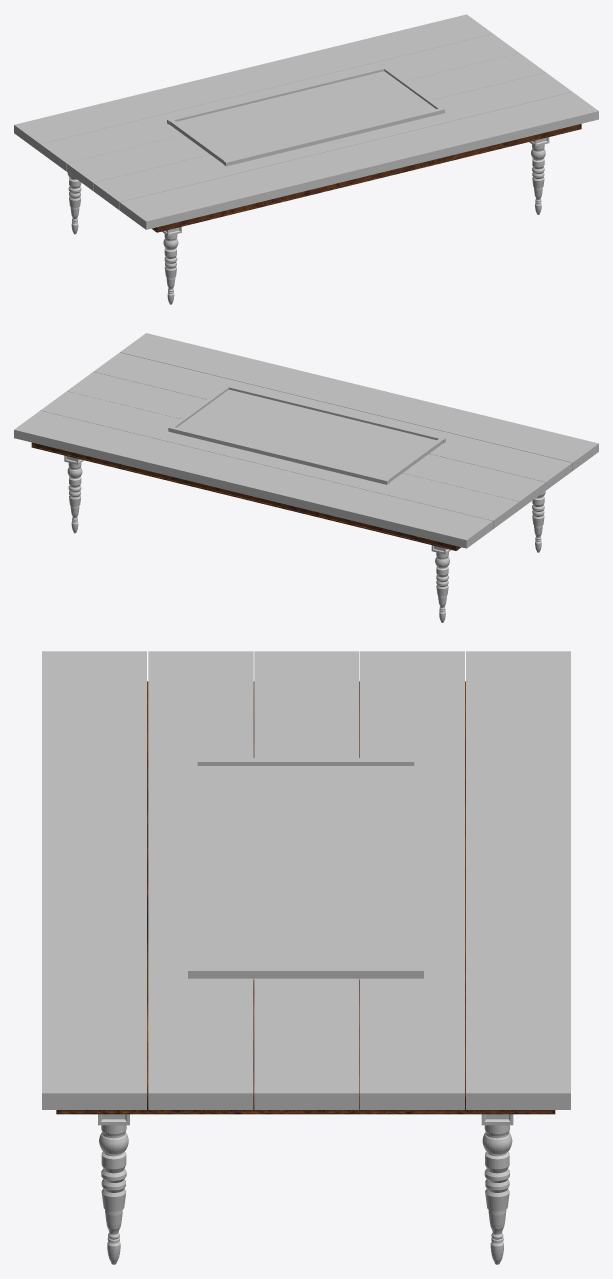
File: стол-для-игры3.fbx
3 views of the same model, one above another, from view 1: azimuth 30°, elevation 25°; view 2: azimuth 150°, elevation 25°; view 3: azimuth 270°, elevation 25° (orthographic). The views are drawn at different scales.
Parts seen in each view (by area): view 1: Cube.015, Plane.001, Ноги.001; view 2: Cube.015, Plane.001, Ноги.001; view 3: Cube.015, Plane.001, Ноги.001.
Boxes of the visible parts, x1,y1,x2,y2 form: Cube.015: [14, 14, 598, 235]; Plane.001: [176, 71, 435, 159]; Ноги.001: [67, 144, 545, 304]; Cube.015: [14, 333, 598, 554]; Plane.001: [177, 389, 436, 478]; Ноги.001: [67, 463, 545, 622]; Cube.015: [42, 651, 570, 1125]; Plane.001: [197, 766, 414, 966]; Ноги.001: [99, 1125, 512, 1264].
Bounding box in the file's own units: 28.96 × 14.65 × 6.71.
